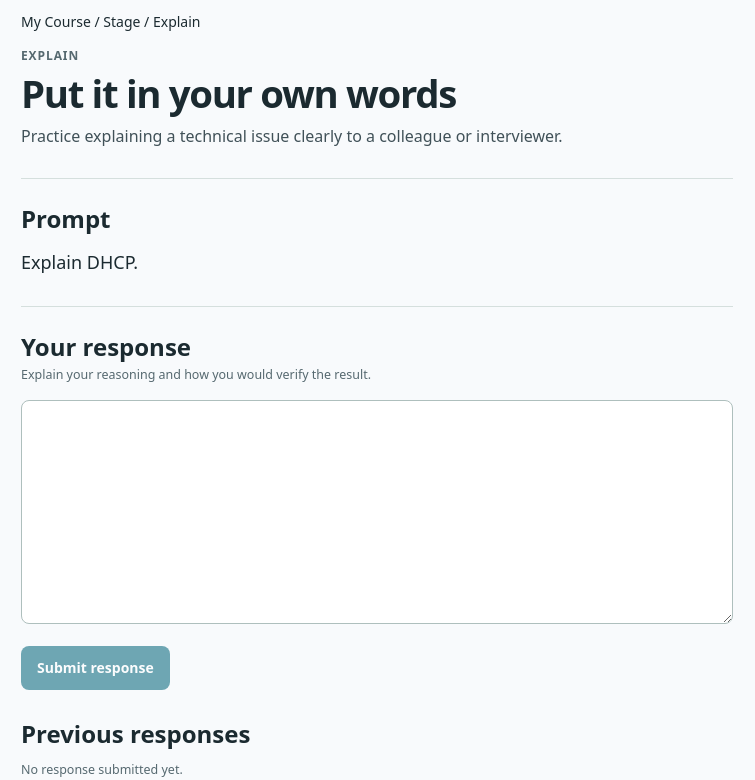
V2ExplainPage › labels and persists a response before showing honest pending state
The image size is (755, 780).
Step 1. Type "DHCP gives a workstation its network settings and I would verify the lease." into the text box labelled "Your response" → [377, 512], box [21,400,733,624]
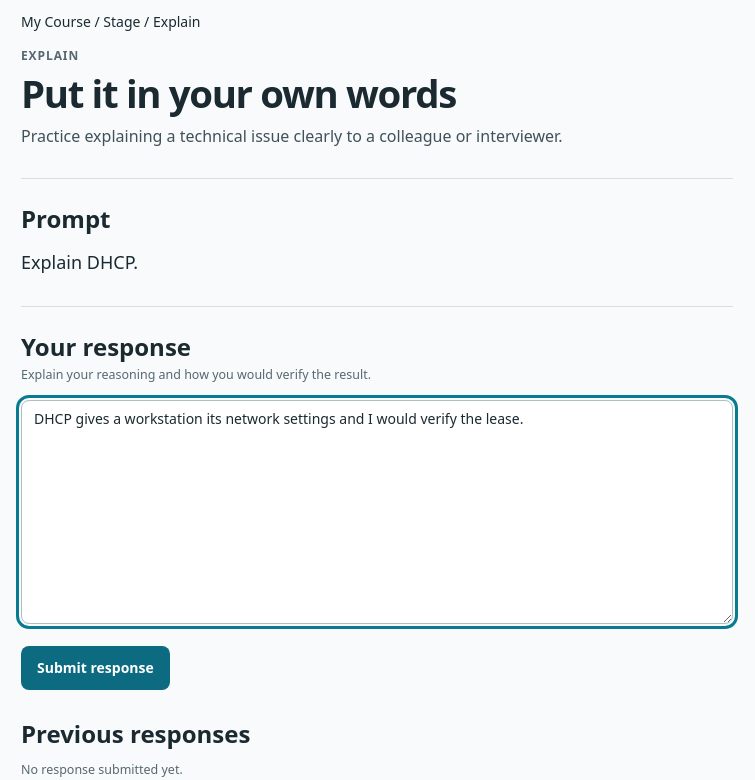
Step 2. Click the button "Submit response" → [95, 668], box [21,646,170,690]
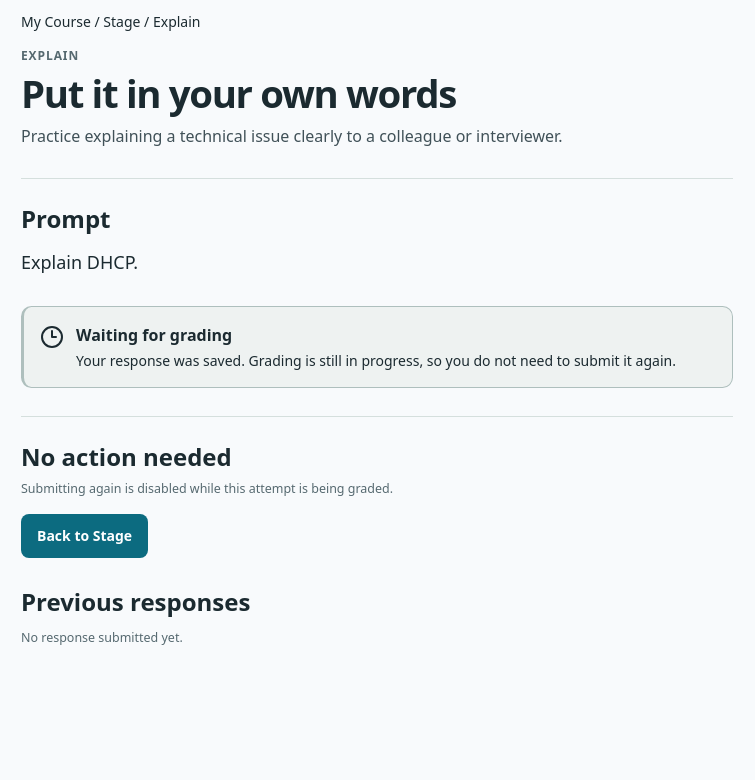
Expected: the heading "Waiting for grading" is shown, [76,324,232,346]
Expected: the text "Your response was saved. Grading is still in progress" is shown, [76,351,676,370]
Expected: the button "Submit response" is gone
